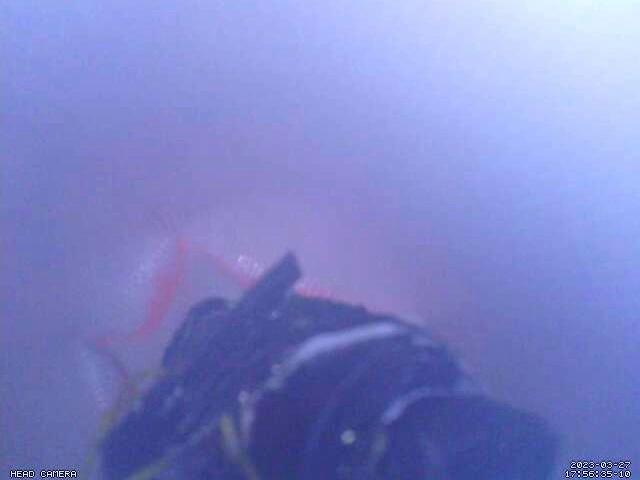head: (93, 240, 335, 351)
